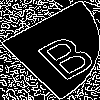B: (25, 25, 100, 83)
